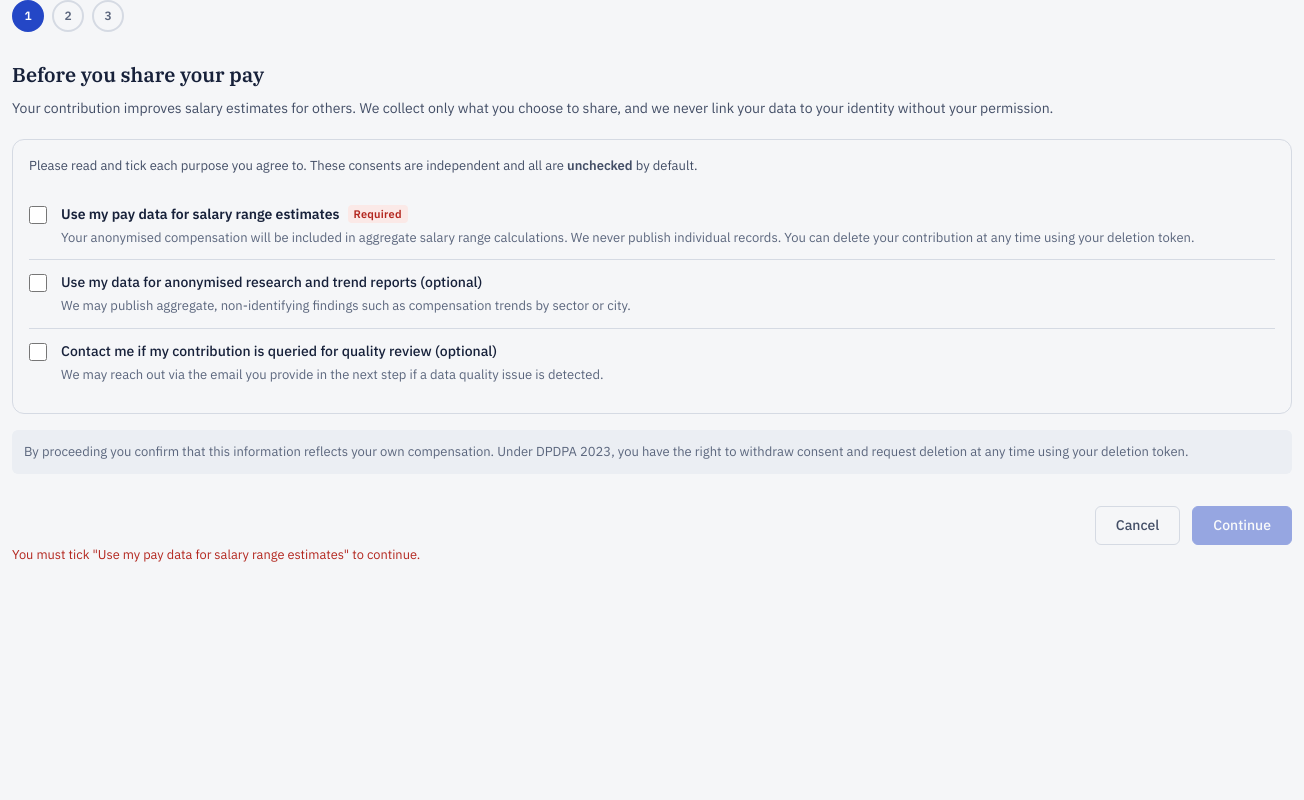
ContributionFlow — Step 1: Consent › Continue button is disabled until benchmarking consent is checked
The width and height of the screenshot is (1304, 800).
Expected: the button "Continue" is disabled, [1192,506,1292,544]
Click the 1st checkbox at (38, 214), box [29,206,47,224]
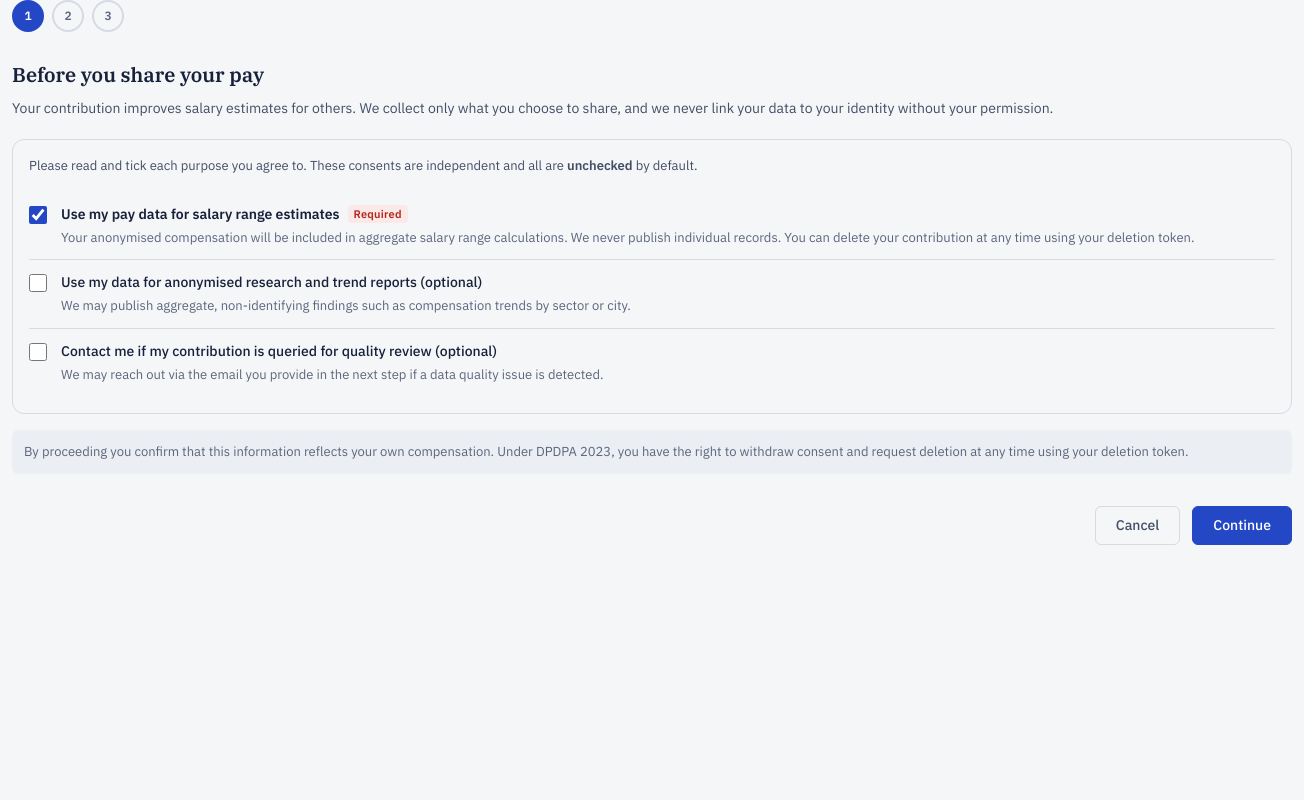
Now the button "Continue" is enabled, box [1192,506,1292,544]
